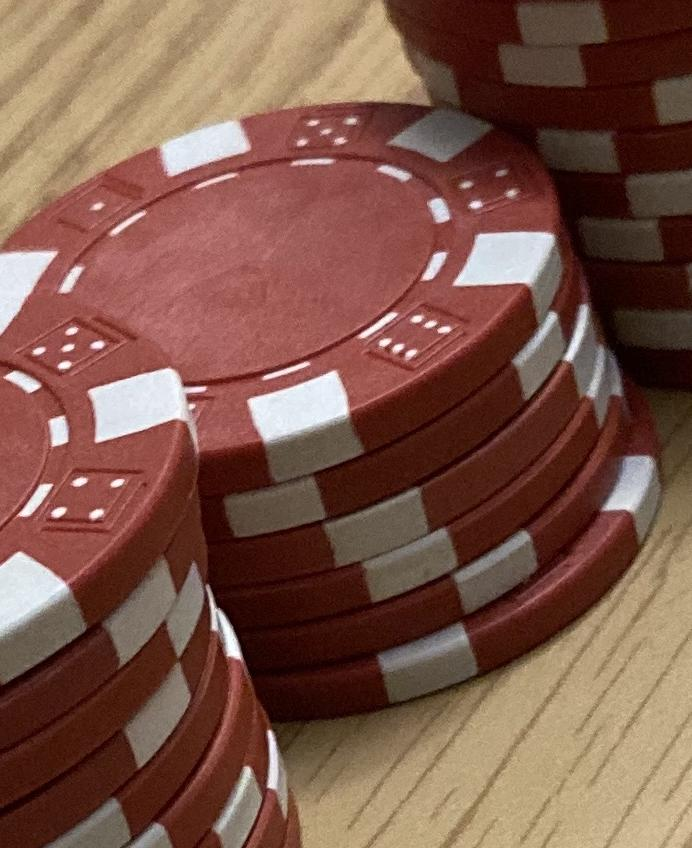Chip: (1, 1, 692, 848)
